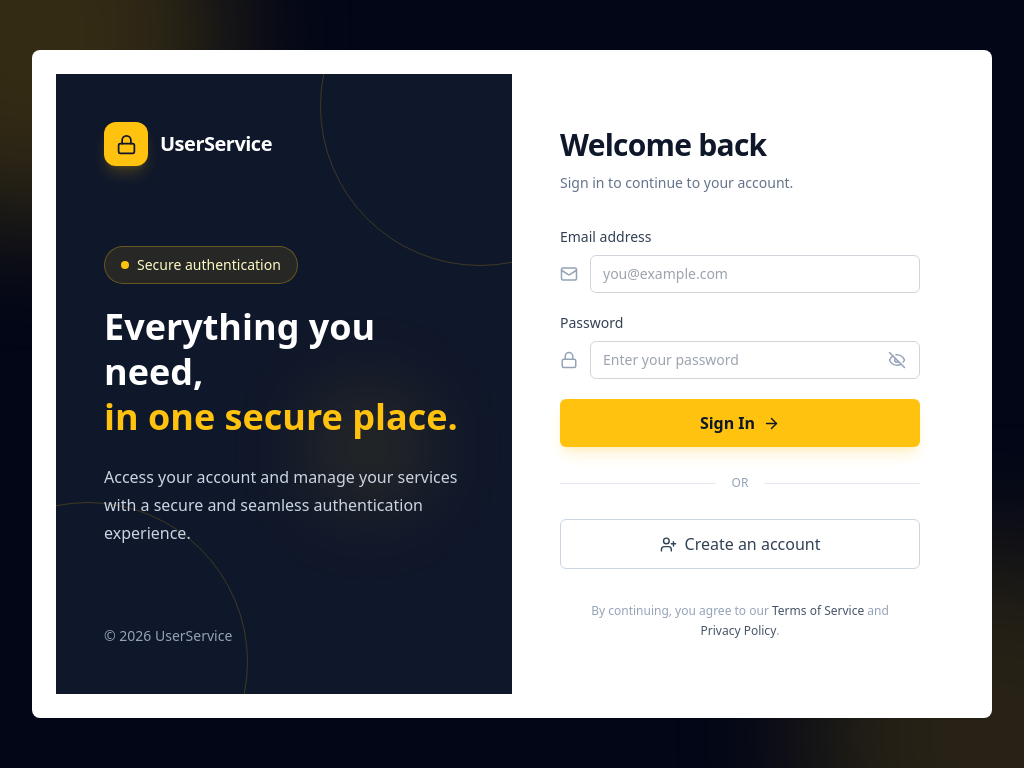
shows required-field errors when the login form is submitted empty
This screenshot has width=1024, height=768.
Click the button "Sign In" at (740, 423), box [560, 399, 920, 447]
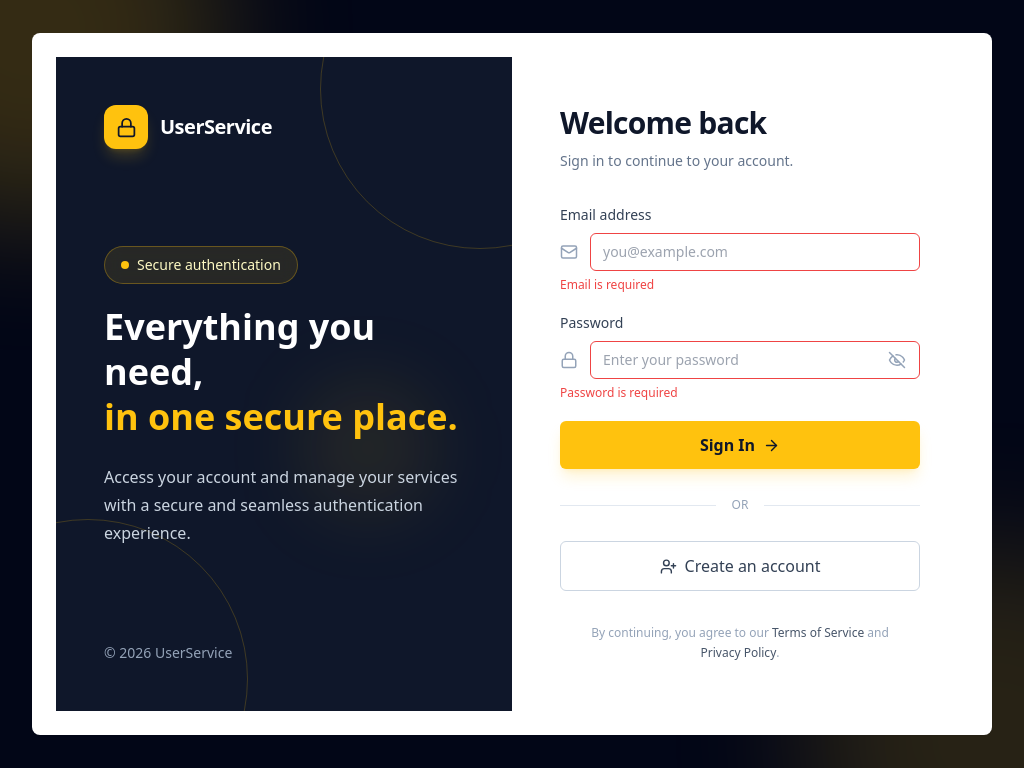
Expected: the text "Email is required" is shown, [560, 276, 654, 293]
Expected: the text "Password is required" is shown, [560, 384, 678, 401]
